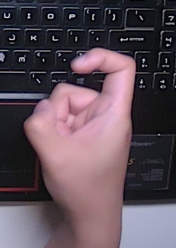anticlockwise: (21, 46, 138, 206)
